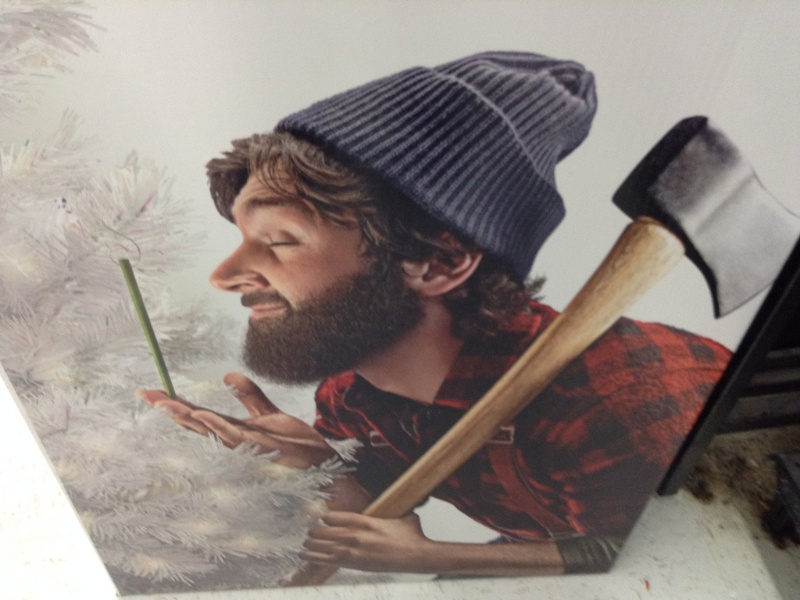axe: (589, 109, 800, 324)
